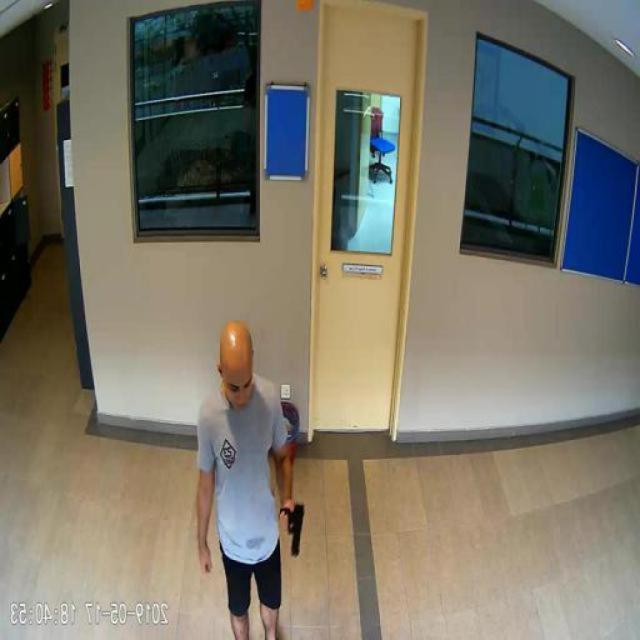pistol: (282, 497, 306, 555)
